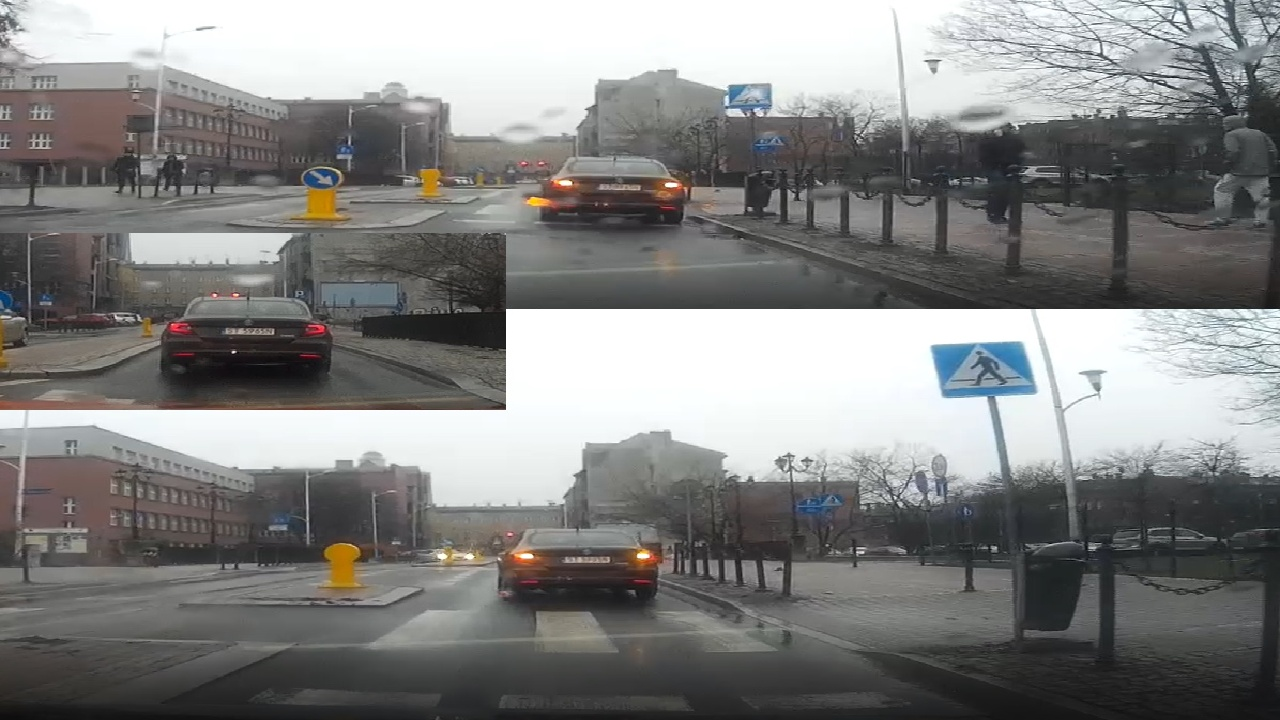C9: (297, 161, 346, 191)
D6: (928, 339, 1041, 402), (723, 79, 774, 113)
